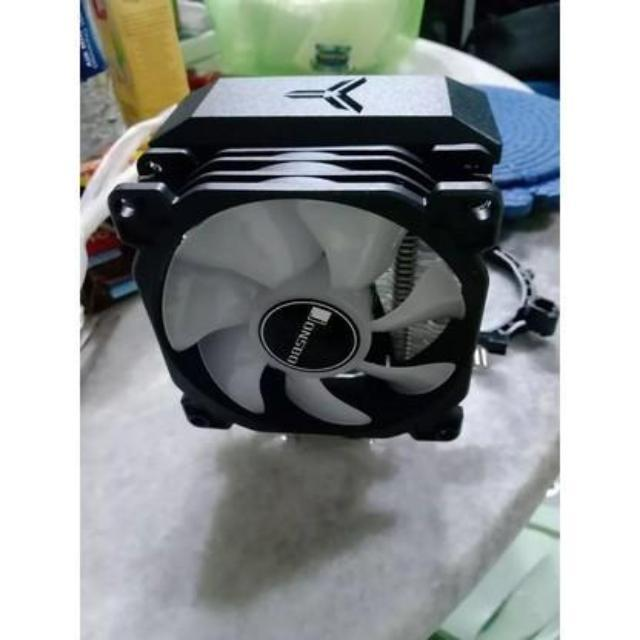CPU_Fan: (102, 66, 508, 452)
